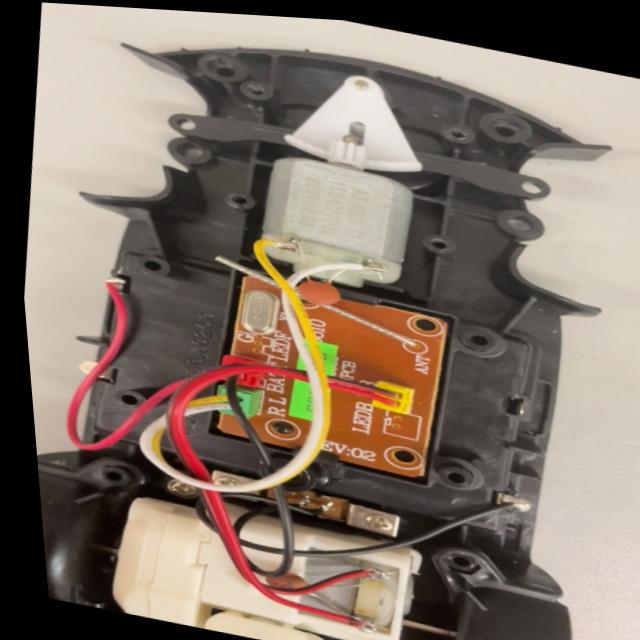motor: (245, 132, 440, 306)
